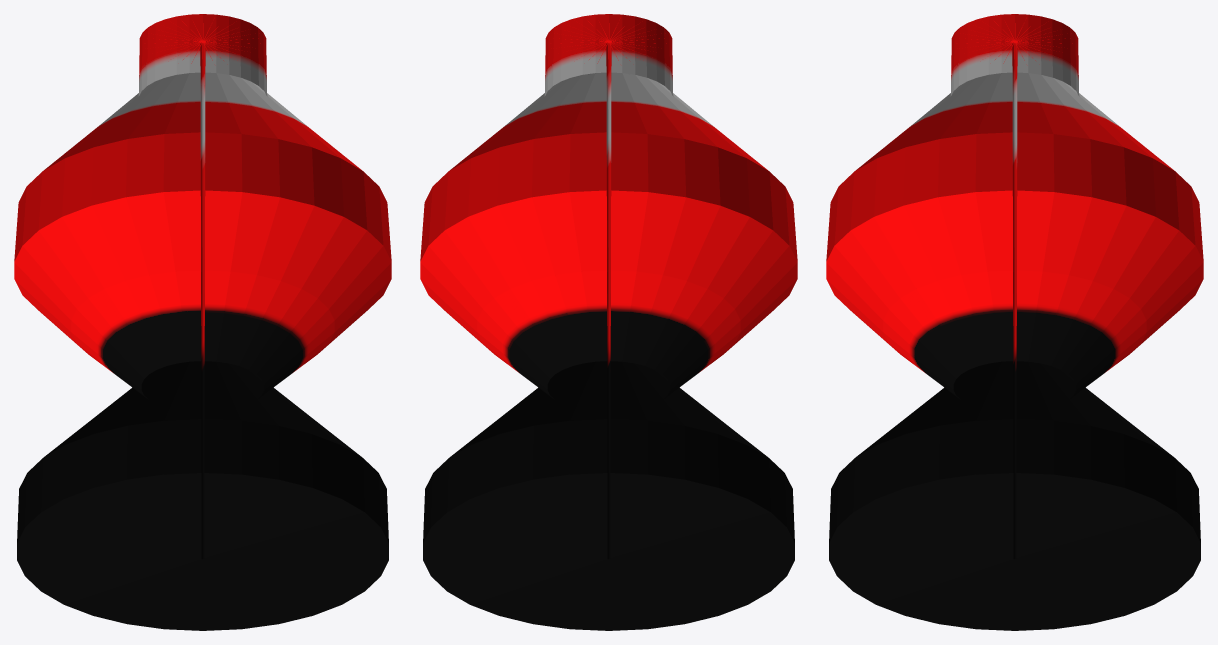
3 renders of one model, left to right at view 1: azimuth 30°, elevation 25°; view 2: azimuth 150°, elevation 25°; view 3: azimuth 270°, elevation 25°, orthographic.
Parts seen in each view (by area): view 1: algeomath; view 2: algeomath; view 3: algeomath.
Part boxes in pixels (box(x1,y1,x2,y2)): algeomath: box(14, 14, 391, 630); algeomath: box(420, 14, 797, 630); algeomath: box(826, 14, 1203, 630).
Bounding box in the file's own units: 6 × 9.03 × 5.96.
1 material, 1 textured.
